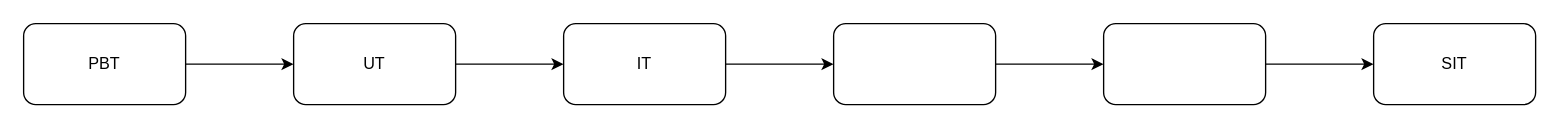
Some shapes in this 1559 by 128 pixel diagram are drawn without their labels. The shapes that lost their labels are listed below. From the top down, each one's centre as x and y in pixels, then its label:
At pixel 914 63: "E2E-API".
At pixel 1184 63: "E2E-UI".
